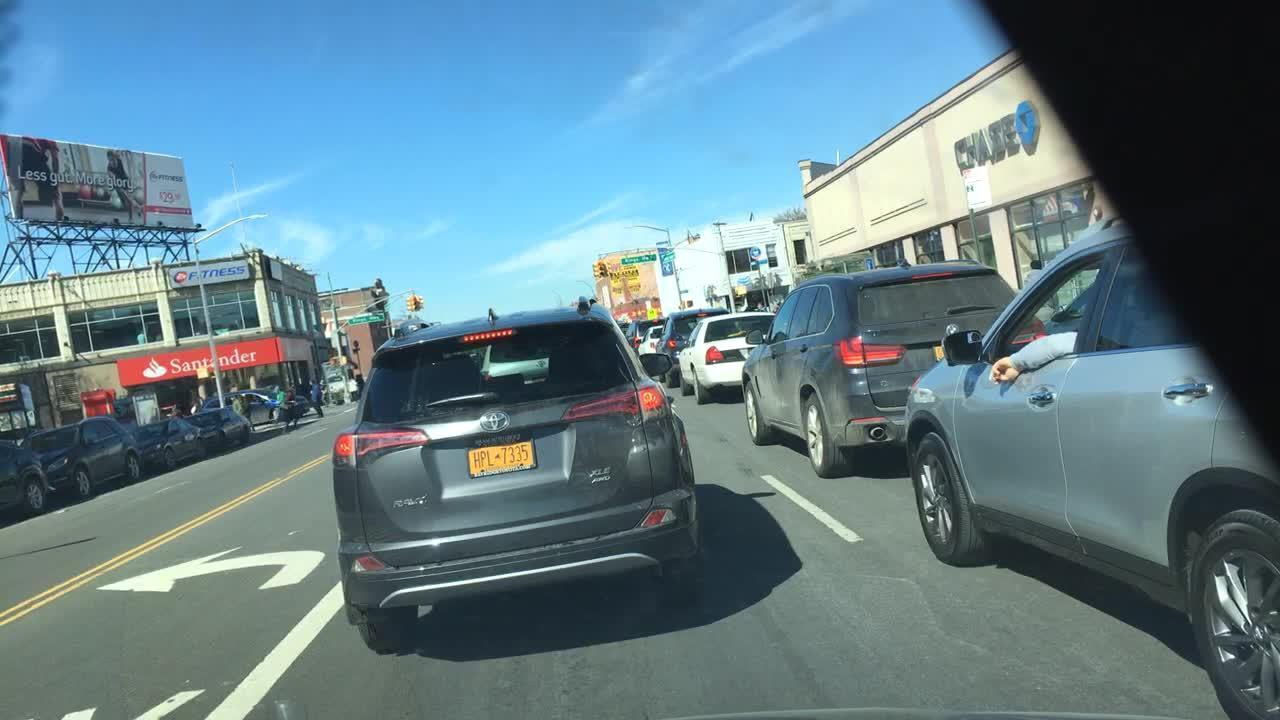Toyota: (465, 401, 515, 435)
bmw: (938, 320, 964, 337)
